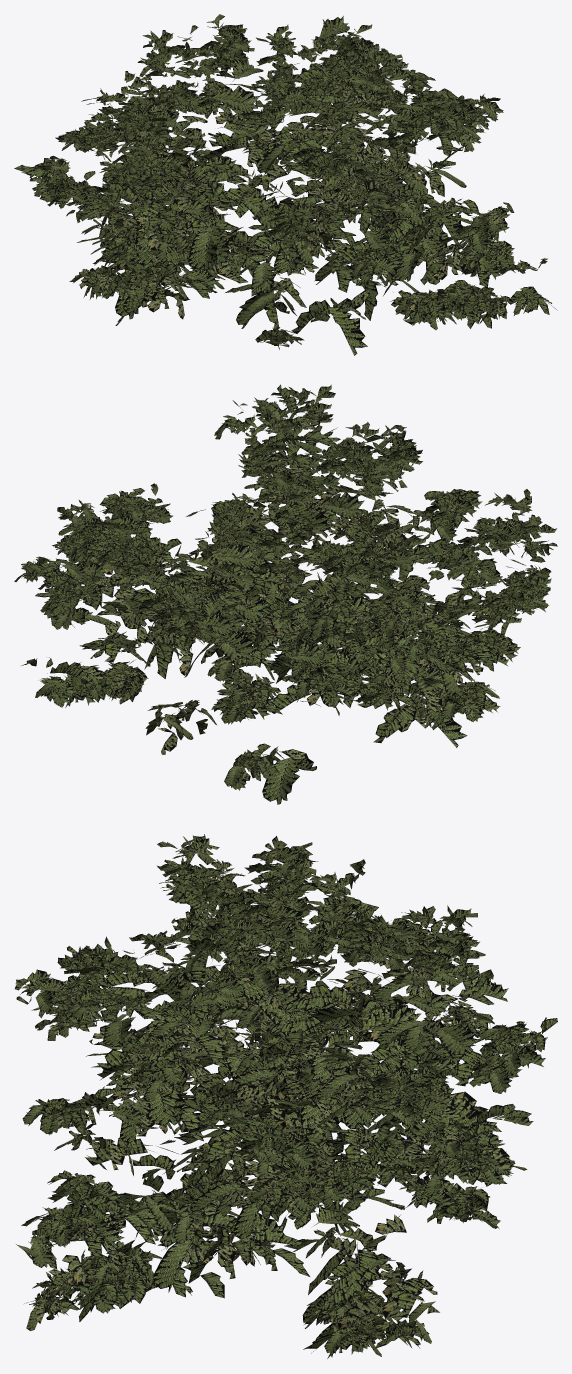
Rendered from jacaranda_L0_hojas.glb.
The picture shows the model from 3 angles, top to bottom: view 1: azimuth 30°, elevation 25°; view 2: azimuth 150°, elevation 25°; view 3: azimuth 270°, elevation 25°; orthographic projection. The views are drawn at different scales.
Parts seen in each view (by area): view 1: jacaranda_tree_LOD0; view 2: jacaranda_tree_LOD0; view 3: jacaranda_tree_LOD0.
Boxes of the visible parts, x1=… form: jacaranda_tree_LOD0: x1=14, y1=14, x2=557, y2=355; jacaranda_tree_LOD0: x1=14, y1=384, x2=557, y2=804; jacaranda_tree_LOD0: x1=15, y1=834, x2=557, y2=1358.
Bounding box in the file's own units: 24.89 × 14.76 × 19.07.
Materials: 1 (1 with a texture image).
